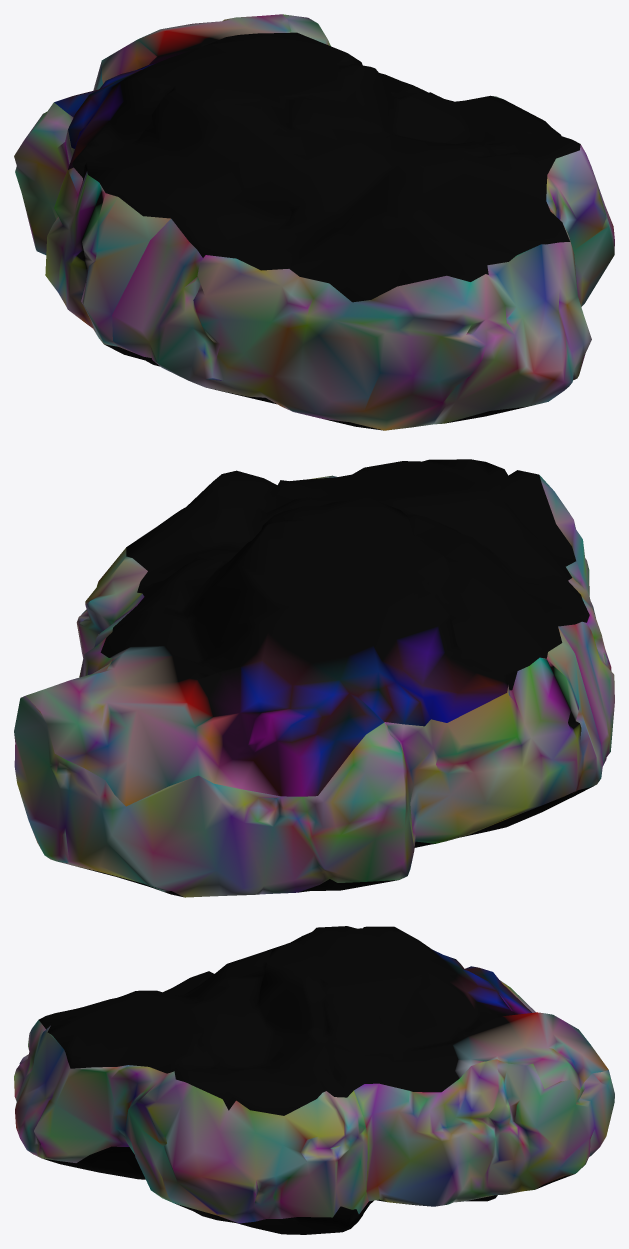
The model's file is reddesertpack_Rock06_SM.gltf.
The picture shows the model from 3 angles, top to bottom: view 1: azimuth 30°, elevation 25°; view 2: azimuth 150°, elevation 25°; view 3: azimuth 270°, elevation 25°; orthographic projection. The views are drawn at different scales.
Parts seen in each view (by area): view 1: reddesertpack_Rock06_SM; view 2: reddesertpack_Rock06_SM; view 3: reddesertpack_Rock06_SM.
Part boxes in pixels (x1=…): reddesertpack_Rock06_SM: x1=14, y1=14, x2=614, y2=430; reddesertpack_Rock06_SM: x1=14, y1=459, x2=614, y2=897; reddesertpack_Rock06_SM: x1=14, y1=926, x2=614, y2=1234.
Size of the model in its own units: 3.18 by 1.84 by 4.46.
